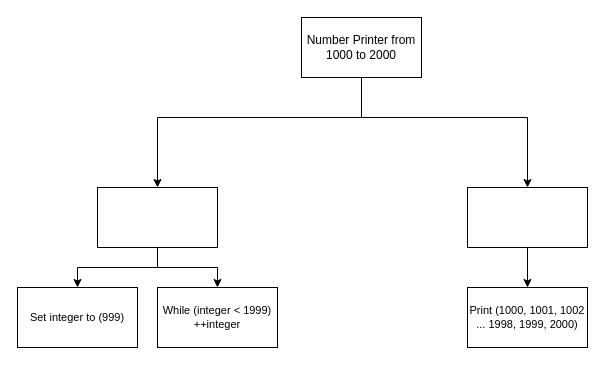
Some shapes in this 605 by 365 pixel diagram are drawn without their labels. Here are the shapes that lost their labels. From the top down, the box of each, then its label:
(96, 186, 218, 248): Process
(466, 186, 588, 248): Output
